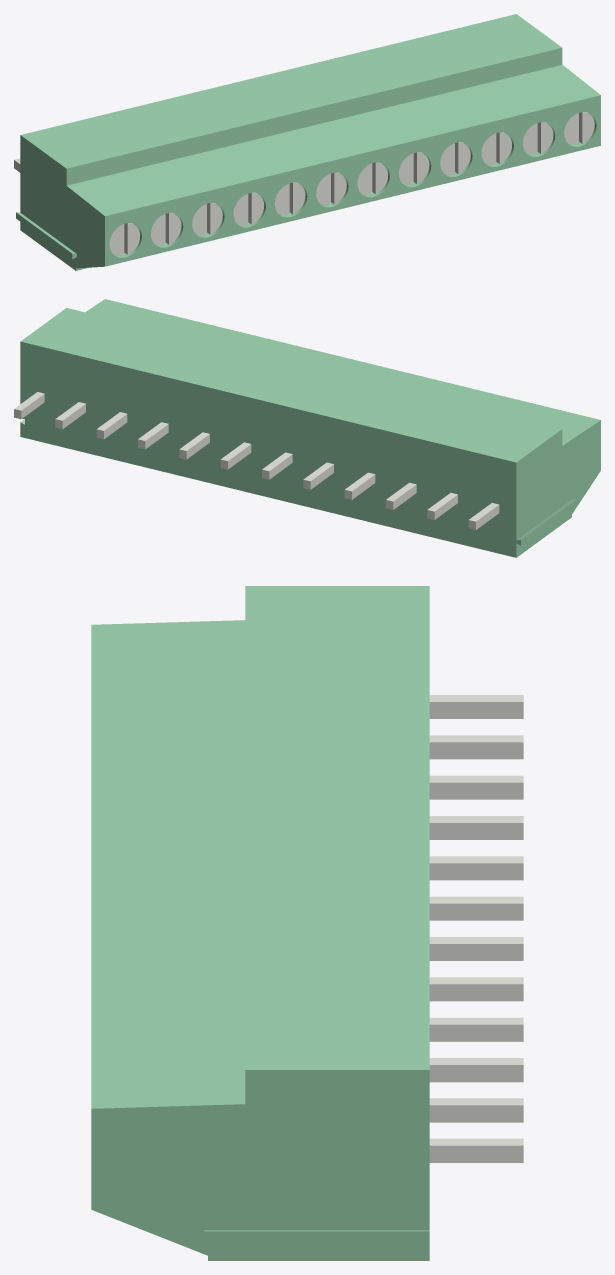
The model's file is TerminalBlock_Phoenix_MKDS-3-12-5.08_1x12_P5.08mm_Horizontal.glb.
The picture shows the model from 3 angles, top to bottom: view 1: azimuth 30°, elevation 25°; view 2: azimuth 150°, elevation 25°; view 3: azimuth 270°, elevation 25°; orthographic projection. The views are drawn at different scales.
Visible parts, largest first — view 1: Shape_IndexedFaceSet.005, Shape_IndexedFaceSet.003, Shape_IndexedFaceSet.002, Shape_IndexedFaceSet.004, Shape_IndexedFaceSet, Shape_IndexedFaceSet.025; view 2: Shape_IndexedFaceSet.006, Shape_IndexedFaceSet.005, Shape_IndexedFaceSet.003, Shape_IndexedFaceSet, Shape_IndexedFaceSet.025; view 3: Shape_IndexedFaceSet.005, Shape_IndexedFaceSet.003, Shape_IndexedFaceSet.012, Shape_IndexedFaceSet.072, Shape_IndexedFaceSet.036, Shape_IndexedFaceSet.040, Shape_IndexedFaceSet.044, Shape_IndexedFaceSet.048, Shape_IndexedFaceSet.056, Shape_IndexedFaceSet.060, Shape_IndexedFaceSet.064, Shape_IndexedFaceSet.068 (+4 smaller).
Part boxes in pixels (x1,y1,x2,y2): Shape_IndexedFaceSet.005: (21, 14, 561, 168); Shape_IndexedFaceSet.003: (67, 64, 600, 215); Shape_IndexedFaceSet.002: (105, 95, 600, 266); Shape_IndexedFaceSet.004: (66, 48, 562, 185); Shape_IndexedFaceSet: (20, 135, 104, 270); Shape_IndexedFaceSet.025: (16, 212, 72, 259); Shape_IndexedFaceSet.006: (20, 341, 520, 557); Shape_IndexedFaceSet.005: (21, 308, 561, 462); Shape_IndexedFaceSet.003: (85, 299, 600, 445); Shape_IndexedFaceSet: (516, 420, 600, 557); Shape_IndexedFaceSet.025: (521, 499, 577, 545); Shape_IndexedFaceSet.005: (245, 586, 429, 1069); Shape_IndexedFaceSet.003: (91, 620, 245, 1108); Shape_IndexedFaceSet.012: (91, 1070, 429, 1260); Shape_IndexedFaceSet.072: (429, 1105, 523, 1122); Shape_IndexedFaceSet.036: (429, 903, 523, 920); Shape_IndexedFaceSet.040: (429, 863, 523, 880); Shape_IndexedFaceSet.044: (429, 1024, 523, 1041); Shape_IndexedFaceSet.048: (429, 984, 523, 1001); Shape_IndexedFaceSet.056: (429, 782, 523, 799); Shape_IndexedFaceSet.060: (429, 742, 523, 759); Shape_IndexedFaceSet.064: (429, 1145, 523, 1162); Shape_IndexedFaceSet.068: (429, 1065, 523, 1082).
Size of the model in its own units: 24.22 by 4.41 by 9.06.
